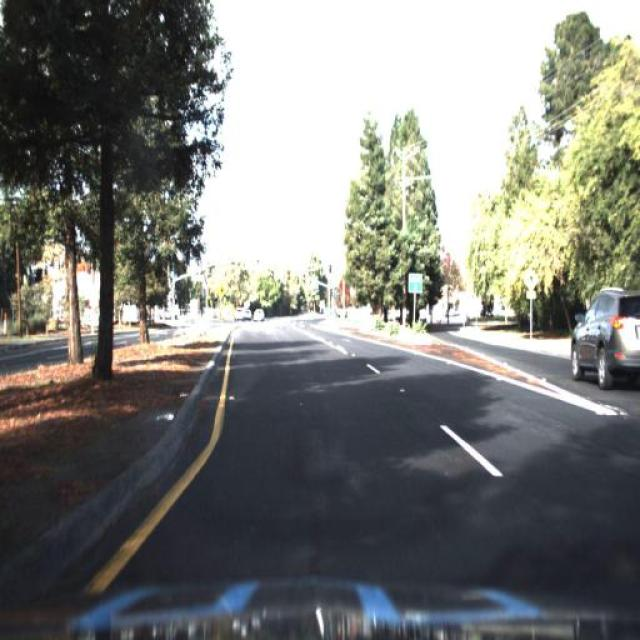car: (570, 282, 638, 390)
